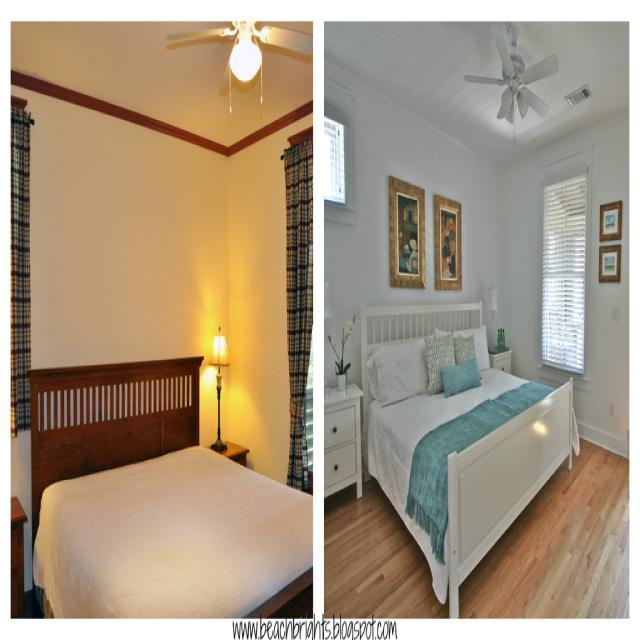bulb_on: (222, 41, 264, 87)
fan_off: (461, 28, 559, 120), (161, 19, 328, 57)
